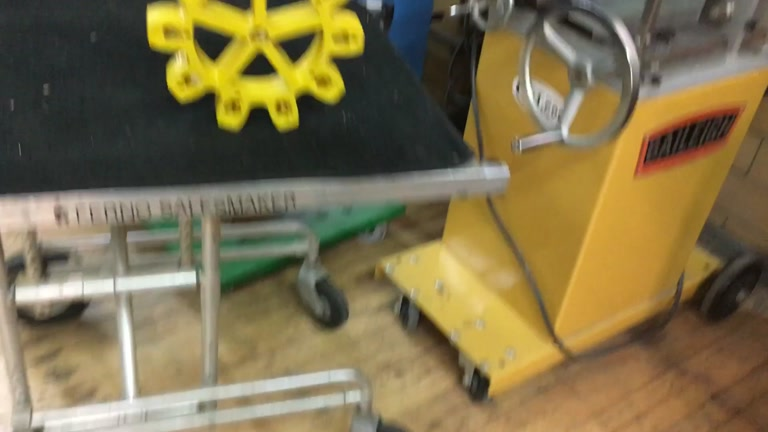gear: (144, 1, 364, 133)
